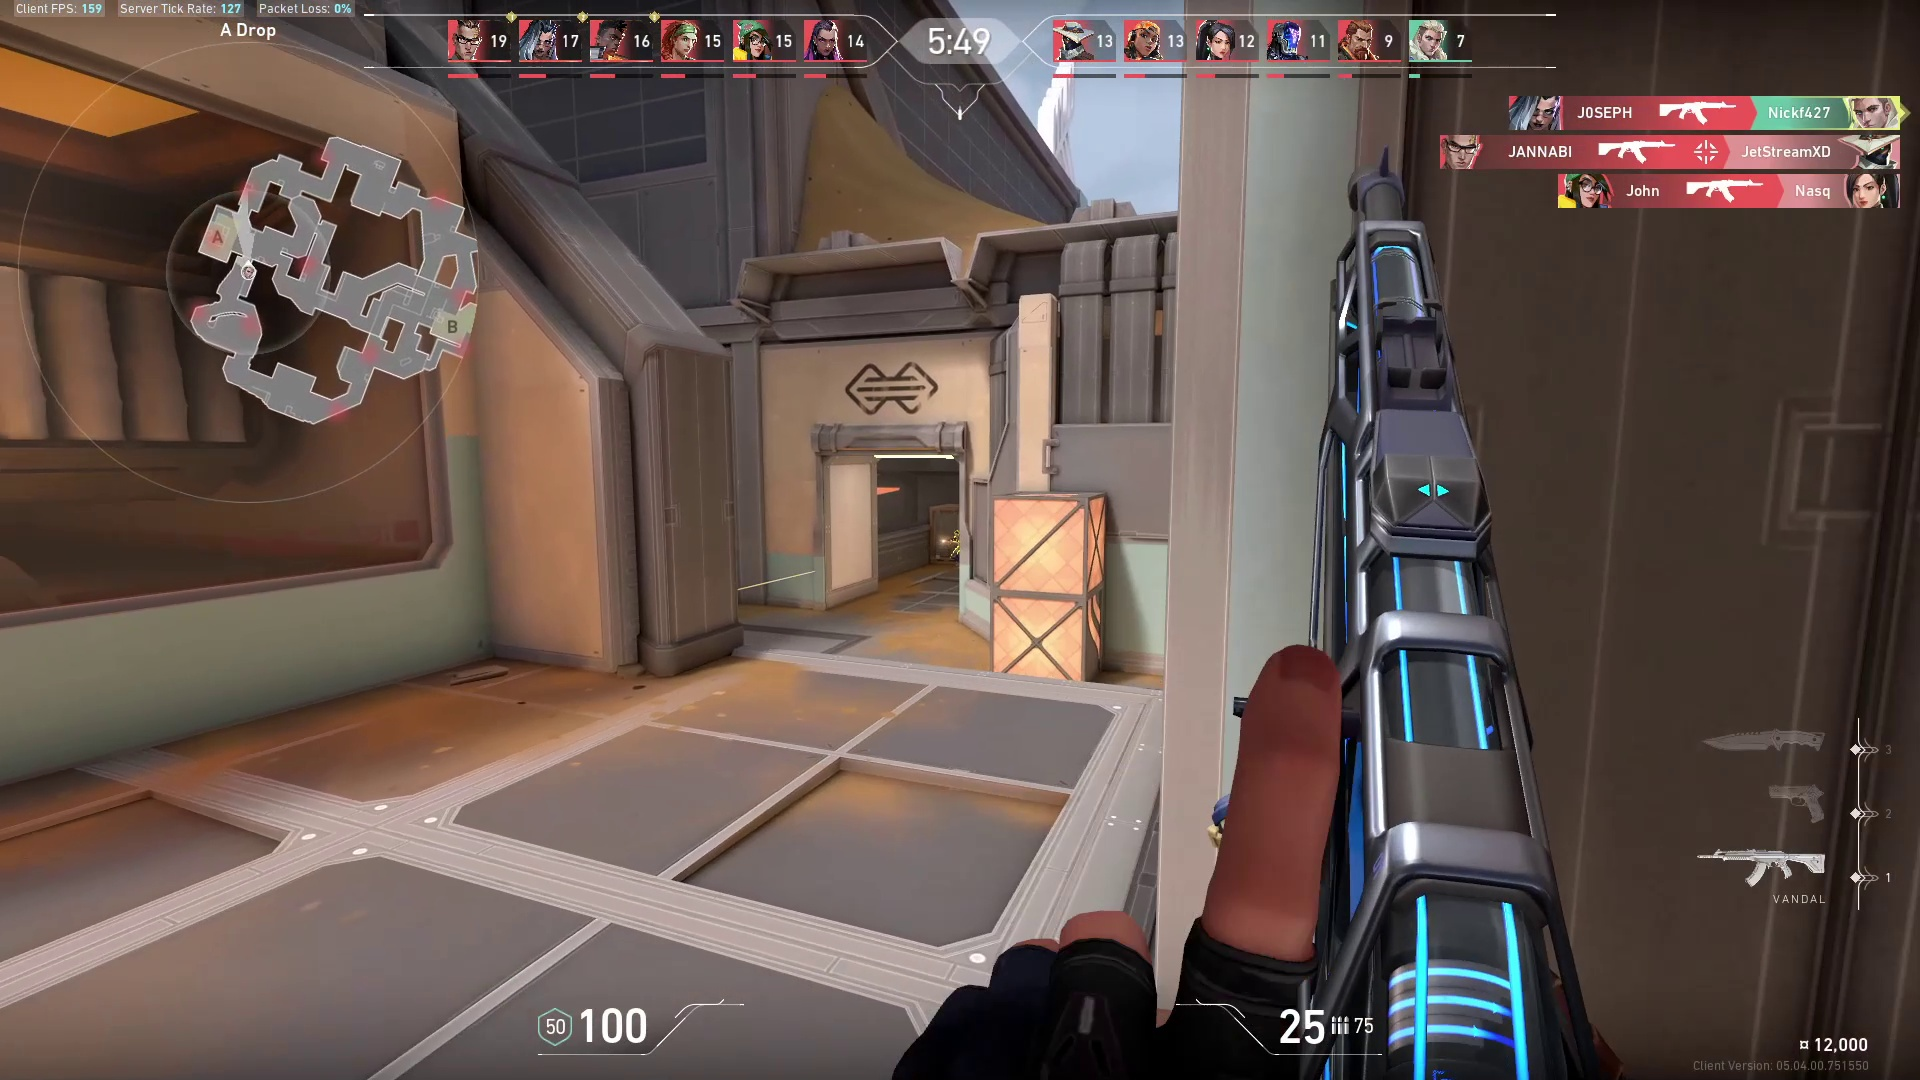enemy_body: (947, 538, 961, 566)
enemy_head: (952, 529, 961, 541)
